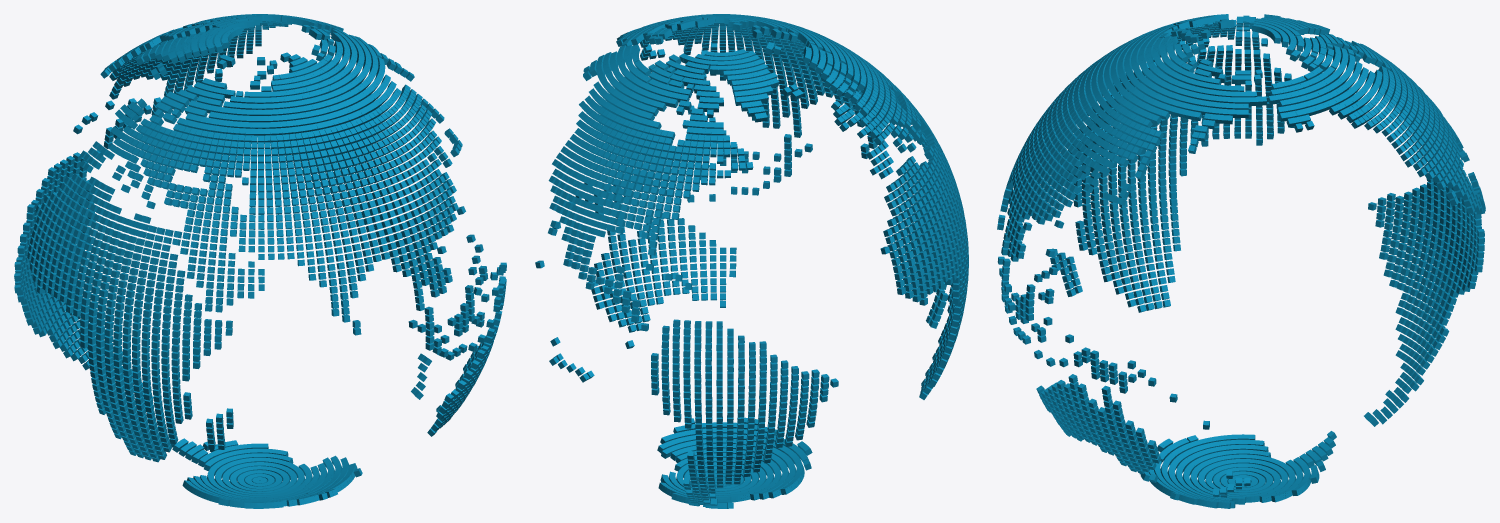
The model's file is nglobe.gltf.
3 views of the same model, side by side, from view 1: azimuth 30°, elevation 25°; view 2: azimuth 150°, elevation 25°; view 3: azimuth 270°, elevation 25° (orthographic).
Parts seen in each view (by area): view 1: MASH1_ReproMesh; view 2: MASH1_ReproMesh; view 3: MASH1_ReproMesh.
Part boxes in pixels (left/top/right/bottom): MASH1_ReproMesh: left=14, top=14, right=506, bottom=508; MASH1_ReproMesh: left=535, top=14, right=968, bottom=508; MASH1_ReproMesh: left=997, top=14, right=1485, bottom=508.
Bounding box in the file's own units: 7880 × 8066 × 7965.
